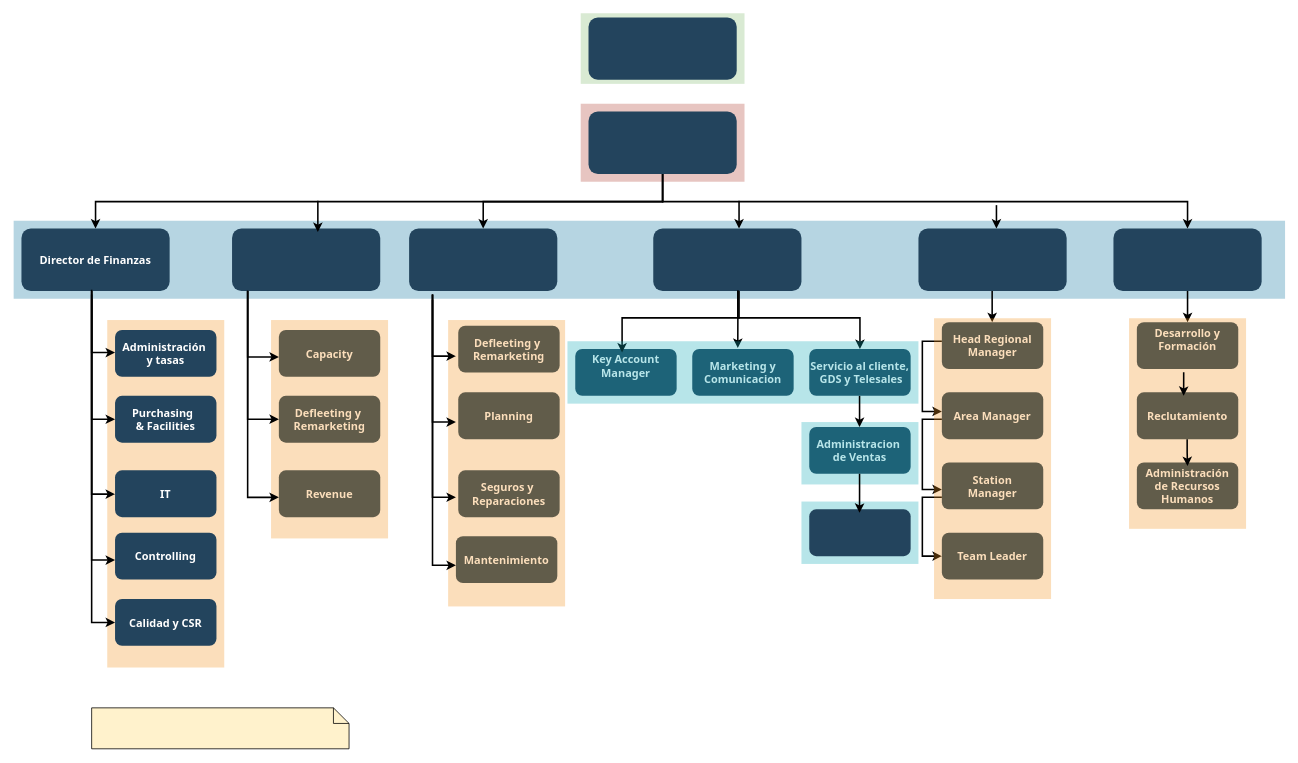
Image size: 1298x763. Some labels were removed from this diagram. Each missing label, with the box of its shape:
Call Center: (809, 509, 910, 556)
Comité de dirección: (588, 111, 736, 174)
Country Manager: (588, 17, 736, 79)
Director Comercial: (653, 228, 801, 291)
Director de Operaciones: (918, 228, 1066, 291)
Director de Recursos Humanos: (1113, 228, 1261, 291)
Fleet Director: (409, 228, 557, 291)
Organigrama de EchoCar, IB,SA: (91, 707, 349, 749)
RCM Director: (232, 228, 380, 291)
